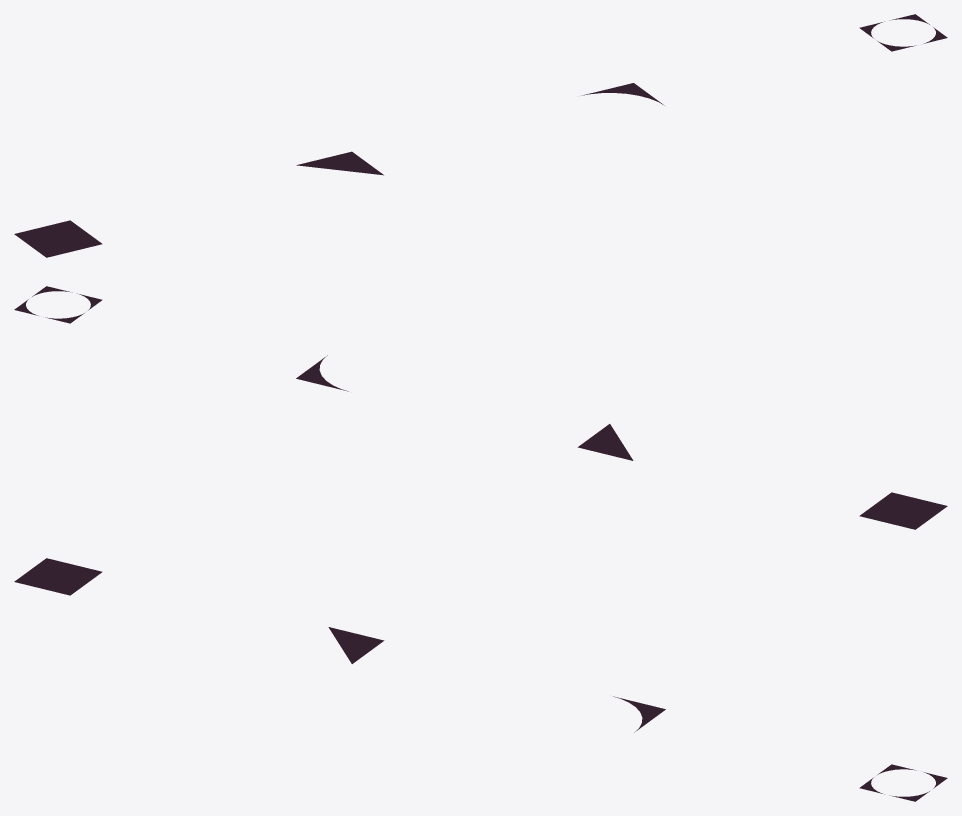
File: Planes.fbx
3 views of the same model, one above another, from view 1: azimuth 30°, elevation 25°; view 2: azimuth 150°, elevation 25°; view 3: azimuth 330°, elevation 25° (orthographic).
Parts seen in each view (by area): view 1: Plane_full, Plane_half; view 2: Plane_full, Plane_half; view 3: Plane_full, Plane_half.
Boxes of the visible parts, x1,y1,x2,y2 form: Plane_full: (14, 220, 102, 257); Plane_half: (296, 151, 383, 175); Plane_full: (859, 492, 947, 529); Plane_half: (577, 424, 633, 460); Plane_full: (14, 558, 102, 595); Plane_half: (328, 627, 384, 663).
Bounding box in the file's own units: 16 × 1.63e-07 × 1.
